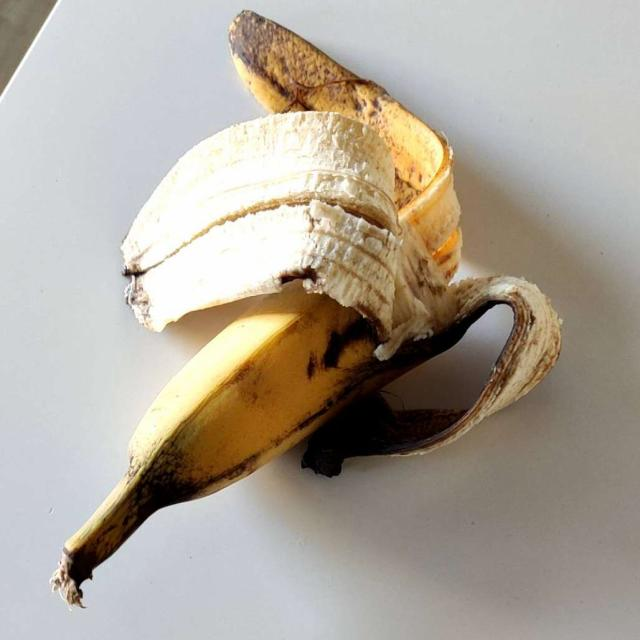banana: (59, 7, 562, 597)
